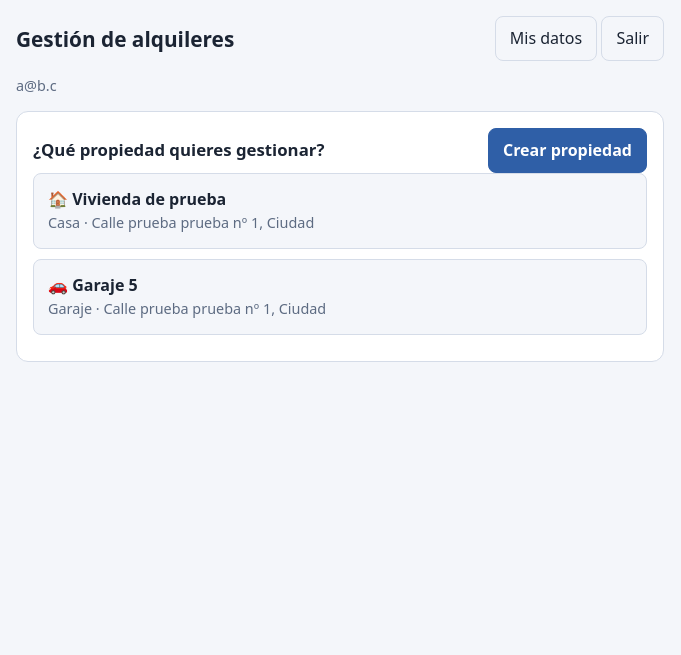
Test case: una casa ofrece Recibos, Contrato y Agua, luz y gas
What coordinates should you click on to do the following:
click the text "🏠 Vivienda de prueba"
I would click on:
 (137, 200)
Its box is [48,188,226,211].
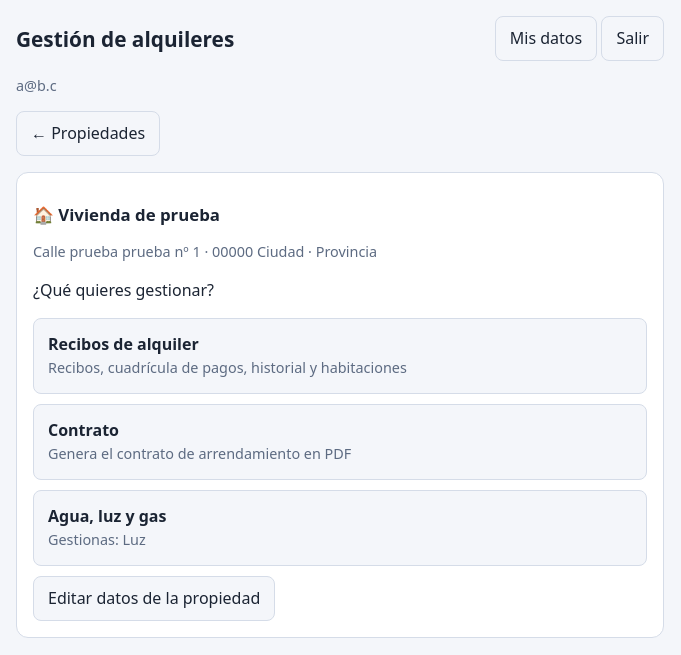
Check: the text "Recibos de alquiler" is shown, box [48,333,199,356]
Check: the text "Contrato" is shown, box [48,419,119,442]
Check: the text "Agua, luz y gas" is shown, box [48,505,166,528]
